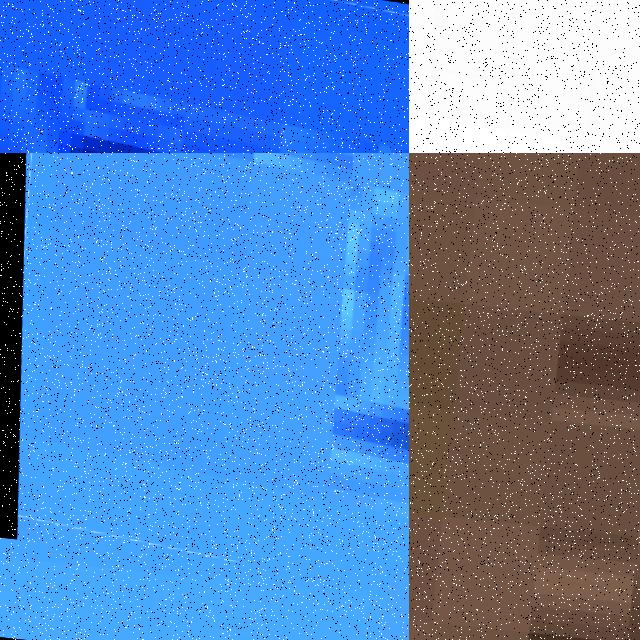drone: (0, 153, 409, 601), (0, 0, 409, 153), (409, 0, 640, 153)
